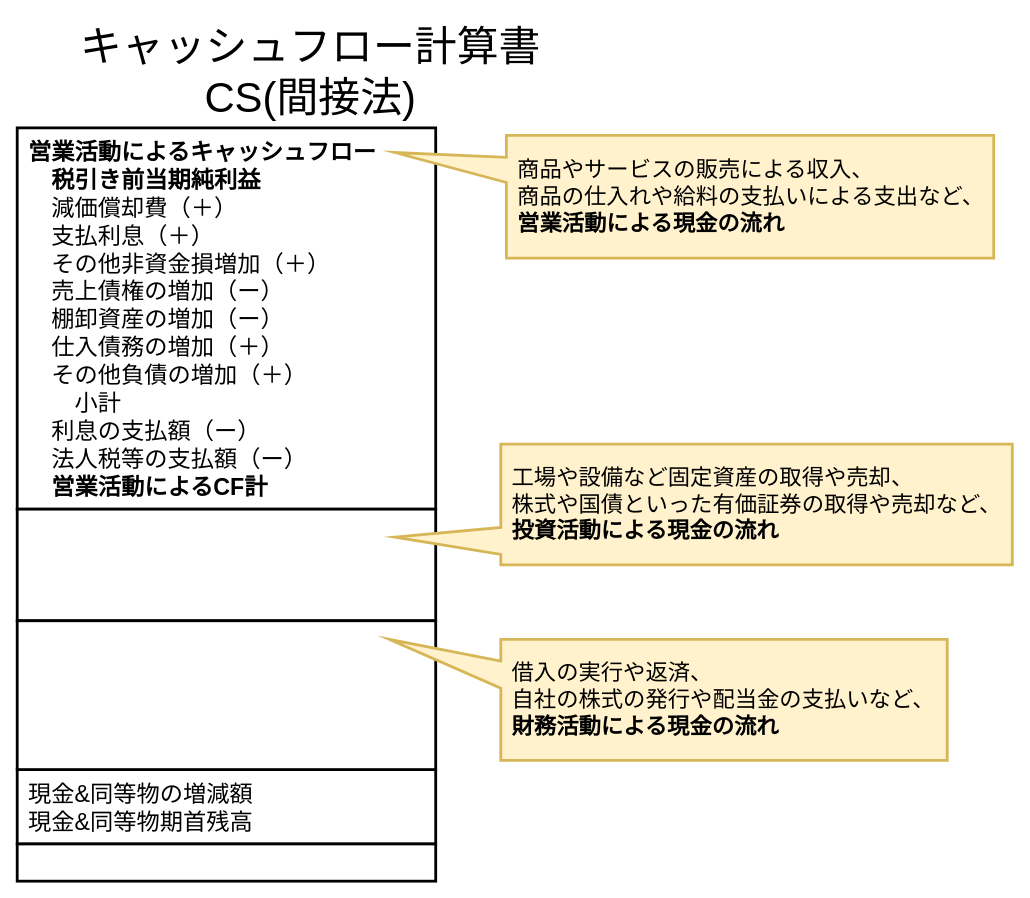
Image size: 1030x898. Some labels were removed from this diagram. The centre of each missing label's shape, as x and y in pixels:
投資活動によるキャッシュフロー 固定資産取得（ー） 投資活動によるCF計: the point at 226,564
現金&同等物期末残高: the point at 226,862
財務活動によるキャッシュフロー 短期借入収入（＋） 短期借入返済（ー） 株式発行収入（＋） 財務活動によるCF計: the point at 226,695
